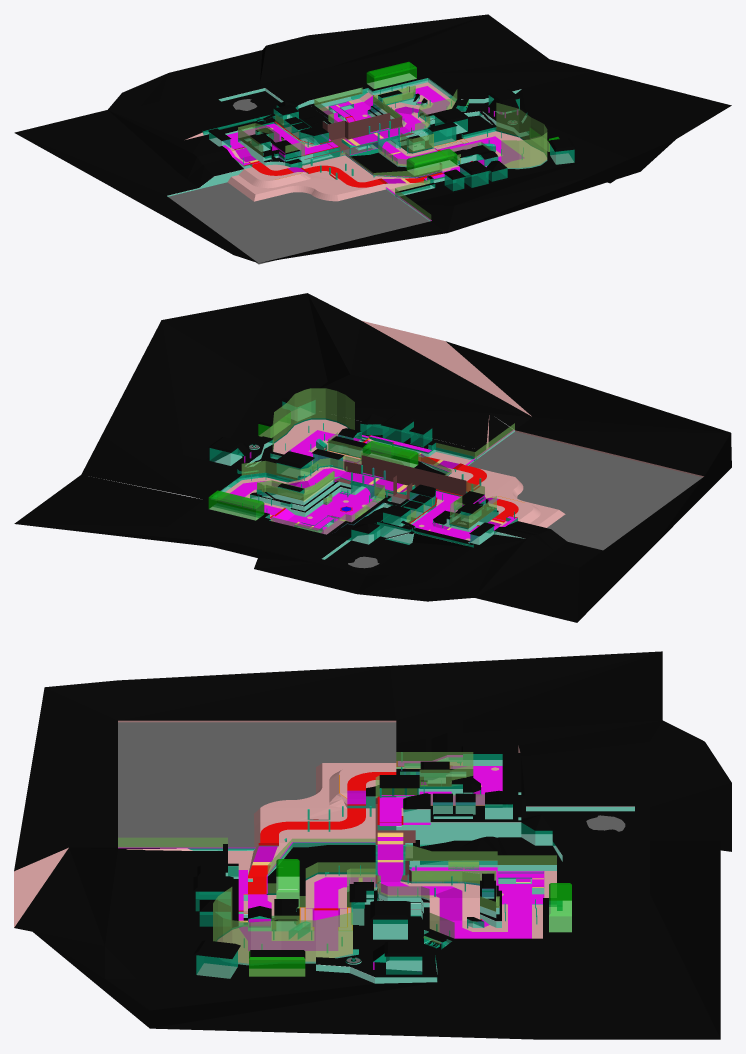
File: kcl.glb
The picture shows the model from 3 angles, top to bottom: view 1: azimuth 30°, elevation 25°; view 2: azimuth 150°, elevation 25°; view 3: azimuth 270°, elevation 25°; orthographic projection. The views are drawn at different scales.
Visible parts, largest first — view 1: fall_0a_F000a, fall_10_F0030, wall_0c_F002c, offroad_03_F0083, wall_1f_F001f, road_00_F0040, wall_0c_F000c, fall_10_F0010, wall_0c_F006c, road_00_F0020, road_16_F0076, road_00_F0080; view 2: fall_0a_F000a, fall_10_F0030, wall_0c_F002c, wall_1f_F001f, offroad_03_F0083, road_00_F0040, wall_0c_F000c, fall_10_F0010, wall_0c_F006c, road_00_F0020; view 3: fall_0a_F000a, fall_10_F0030, offroad_03_F0083, wall_0c_F002c, wall_1f_F001f, road_00_F0040, wall_0c_F000c, road_00_F0020, wall_0c_F006c, road_16_F0076, road_00_F0080.
Part boxes in pixels (<box>): fall_0a_F000a: <box>14,14,731,262</box>; fall_10_F0030: <box>168,99,516,264</box>; wall_0c_F002c: <box>167,78,574,221</box>; offroad_03_F0083: <box>185,82,573,201</box>; wall_1f_F001f: <box>238,85,547,220</box>; road_00_F0040: <box>222,86,523,220</box>; wall_0c_F000c: <box>366,61,559,175</box>; fall_10_F0010: <box>304,113,413,159</box>; wall_0c_F006c: <box>230,84,547,183</box>; road_00_F0020: <box>251,161,443,187</box>; road_16_F0076: <box>234,106,491,183</box>; road_00_F0080: <box>345,102,421,145</box>; fall_0a_F000a: <box>14,293,731,622</box>; fall_10_F0030: <box>249,431,702,568</box>; wall_0c_F002c: <box>209,400,523,559</box>; wall_1f_F001f: <box>241,388,514,534</box>; offroad_03_F0083: <box>219,320,703,540</box>; road_00_F0040: <box>215,430,516,540</box>; wall_0c_F000c: <box>208,412,418,520</box>; fall_10_F0010: <box>335,455,466,499</box>; wall_0c_F006c: <box>237,418,514,531</box>; road_00_F0020: <box>418,455,518,522</box>; fall_0a_F000a: <box>14,651,731,1039</box>; fall_10_F0030: <box>118,722,625,963</box>; offroad_03_F0083: <box>14,720,556,978</box>; wall_0c_F002c: <box>188,754,634,983</box>; wall_1f_F001f: <box>118,752,556,963</box>; road_00_F0040: <box>118,755,544,969</box>; wall_0c_F000c: <box>249,859,571,976</box>; road_00_F0020: <box>248,772,396,894</box>; wall_0c_F006c: <box>216,752,542,965</box>; road_16_F0076: <box>248,766,481,926</box>; road_00_F0080: <box>377,837,489,926</box>.
Bounding box in the file's own units: 1346 × 131 × 1011.
